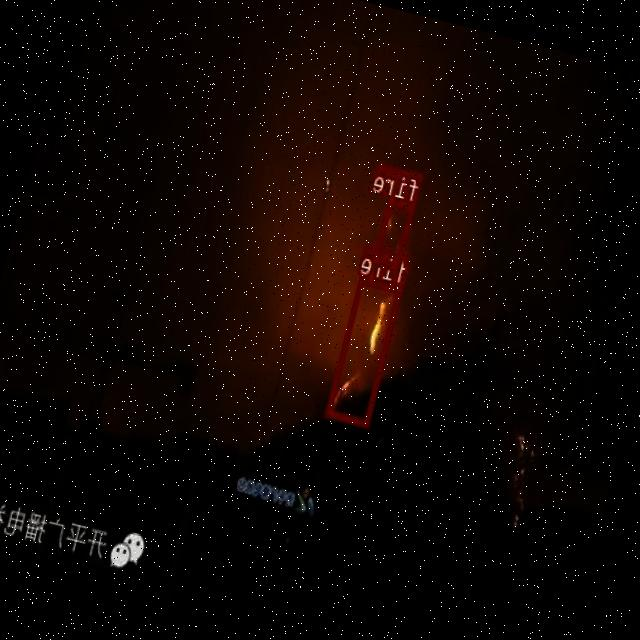fire: (326, 274, 404, 426), (372, 196, 417, 271)
